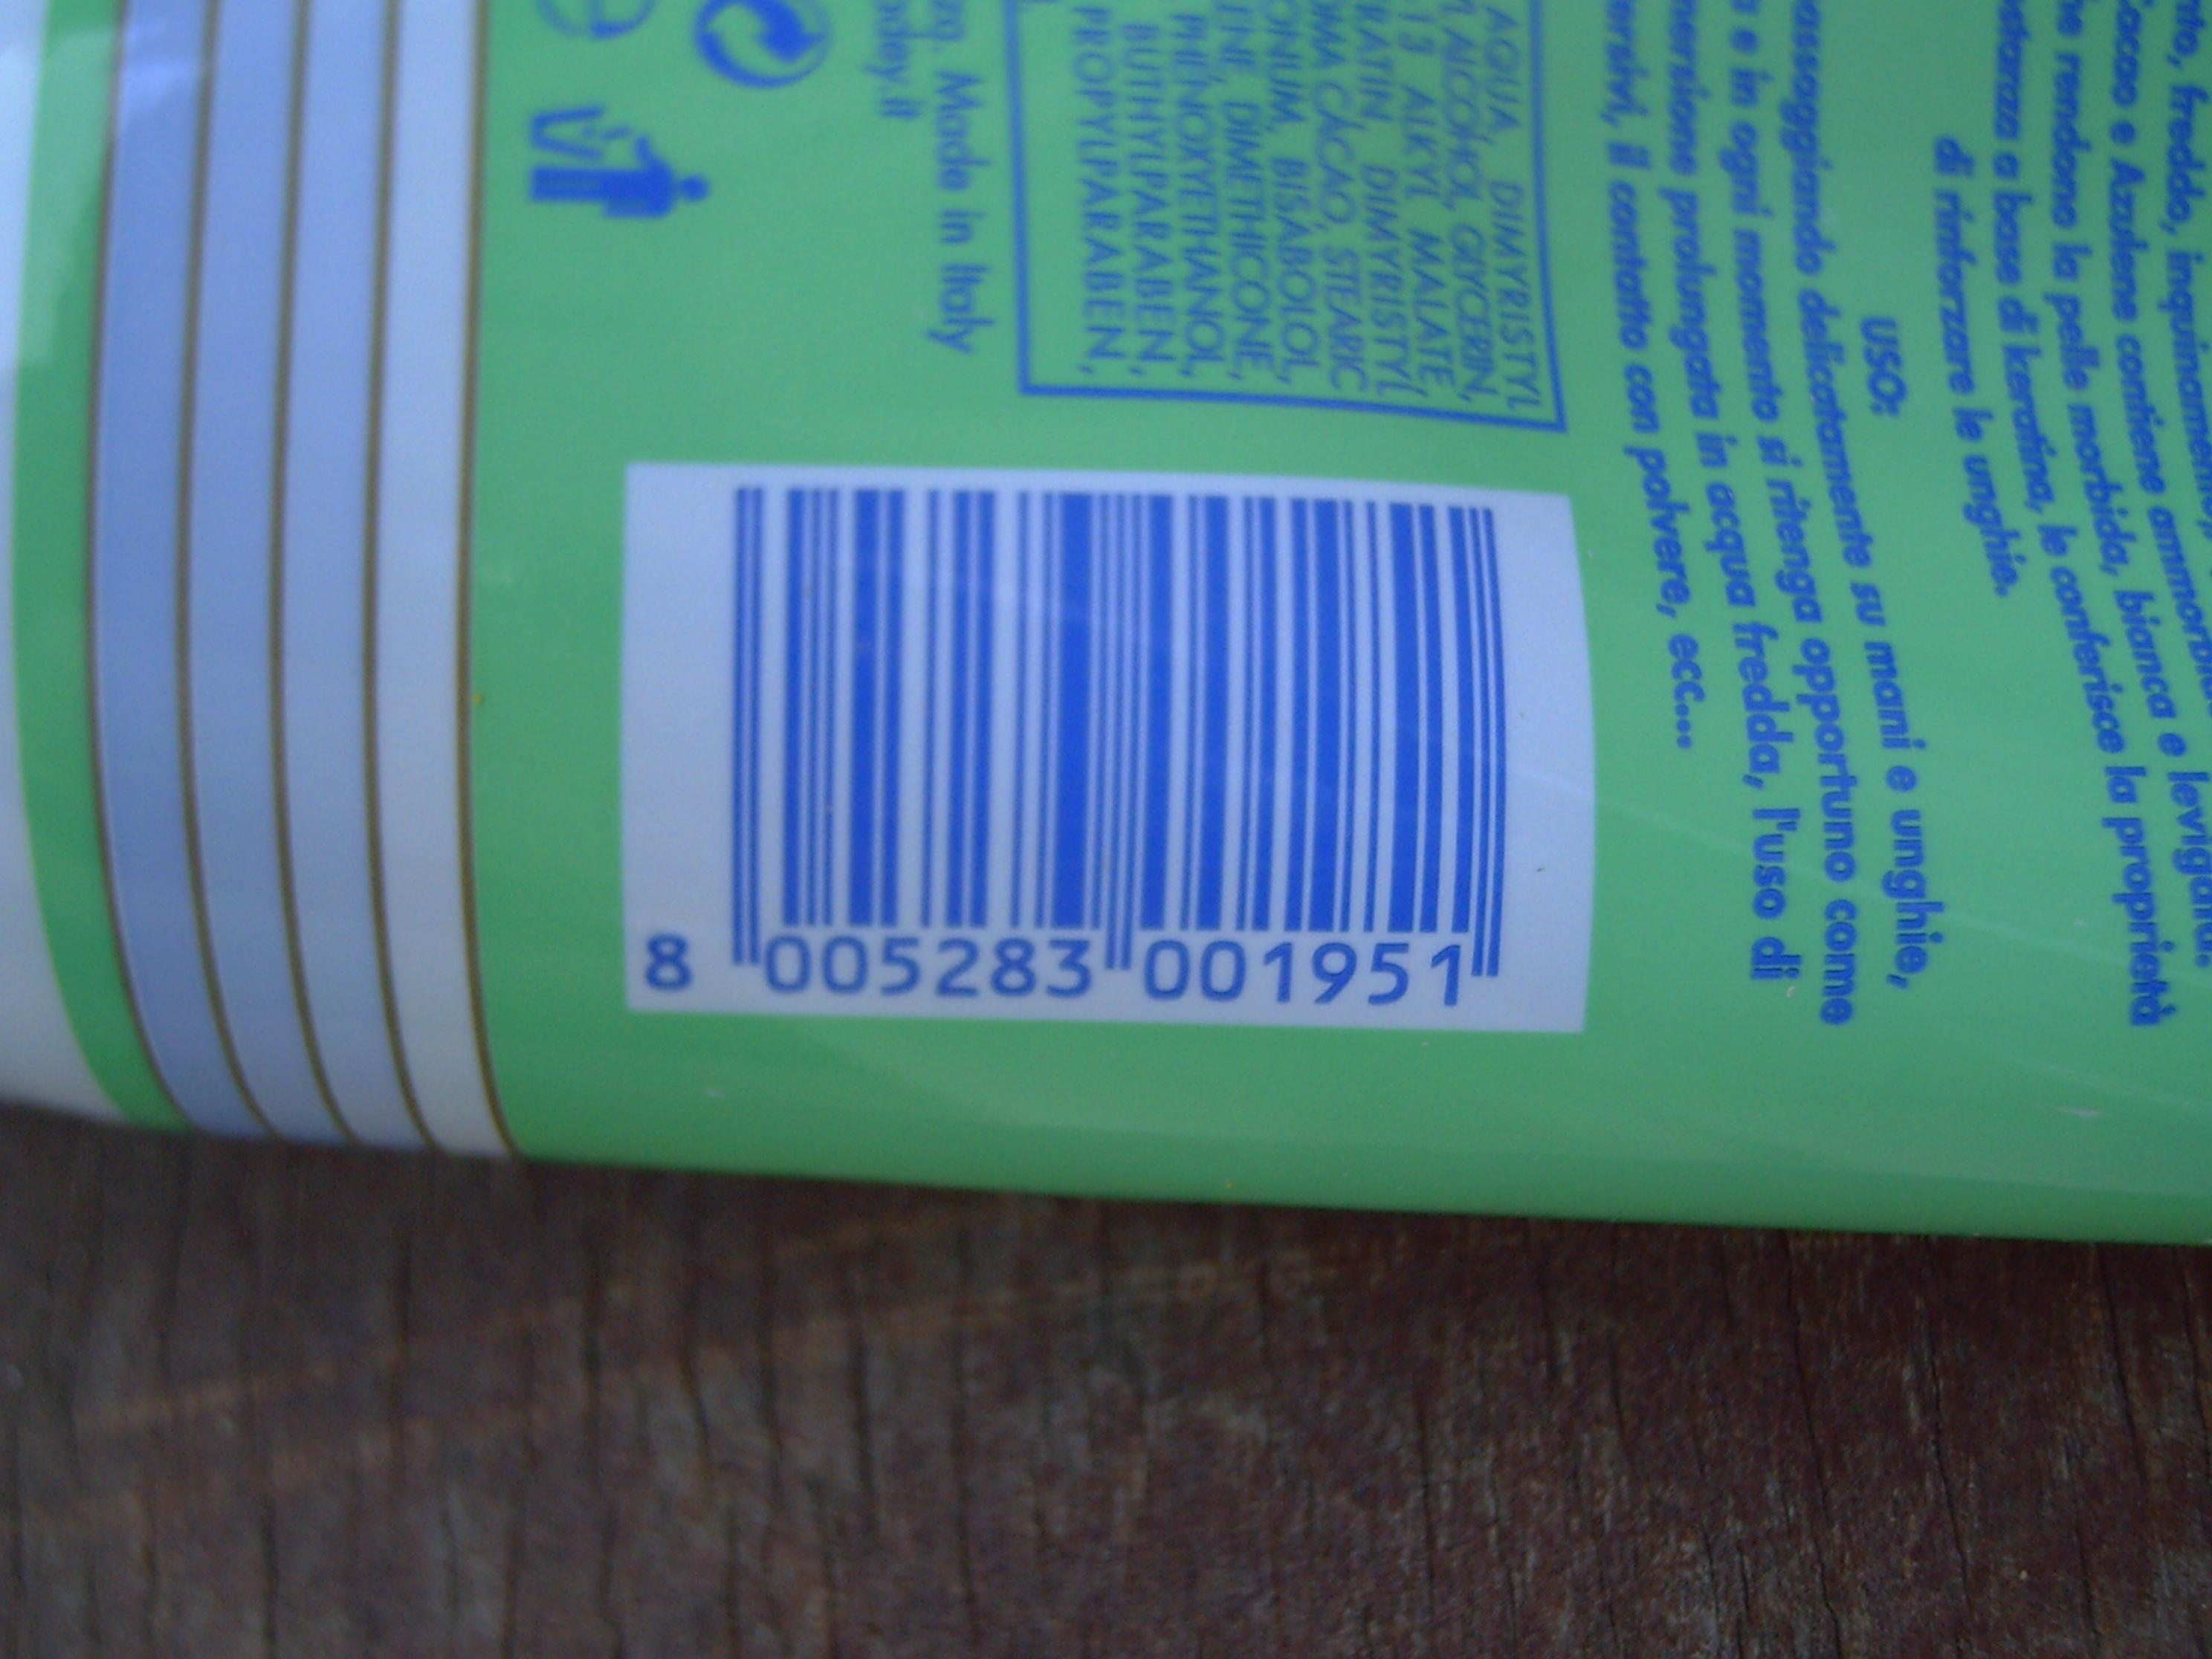barcode: (629, 464, 1590, 1032)
